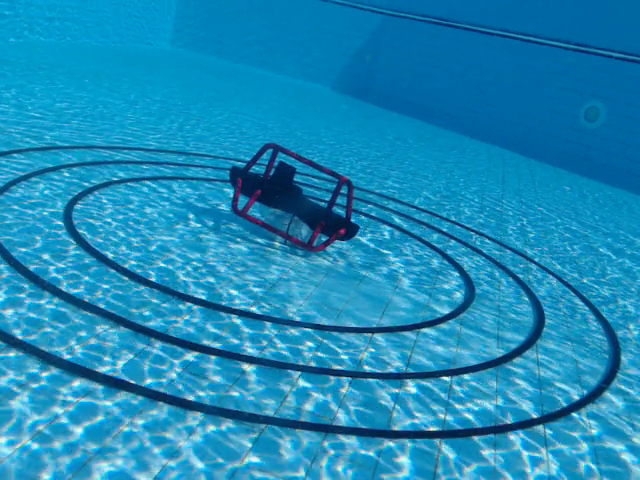submarine: (227, 141, 361, 255)
